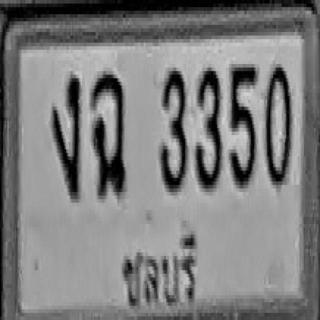A07: (51, 75, 81, 199)
A09: (91, 71, 126, 195)
N00: (265, 62, 292, 187)
N03: (159, 68, 187, 192), (195, 64, 222, 188)
N05: (229, 62, 257, 187)
P13: (118, 227, 198, 314)
